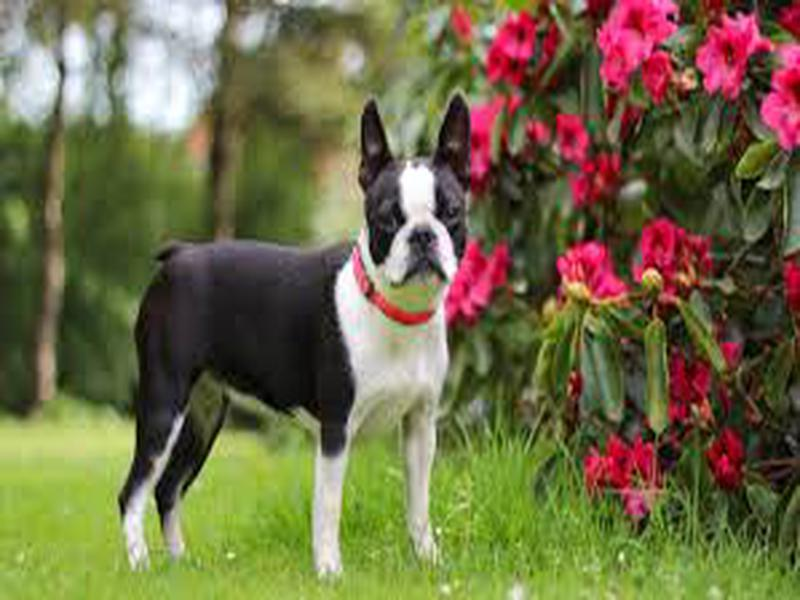dog_stand: (116, 97, 474, 585)
